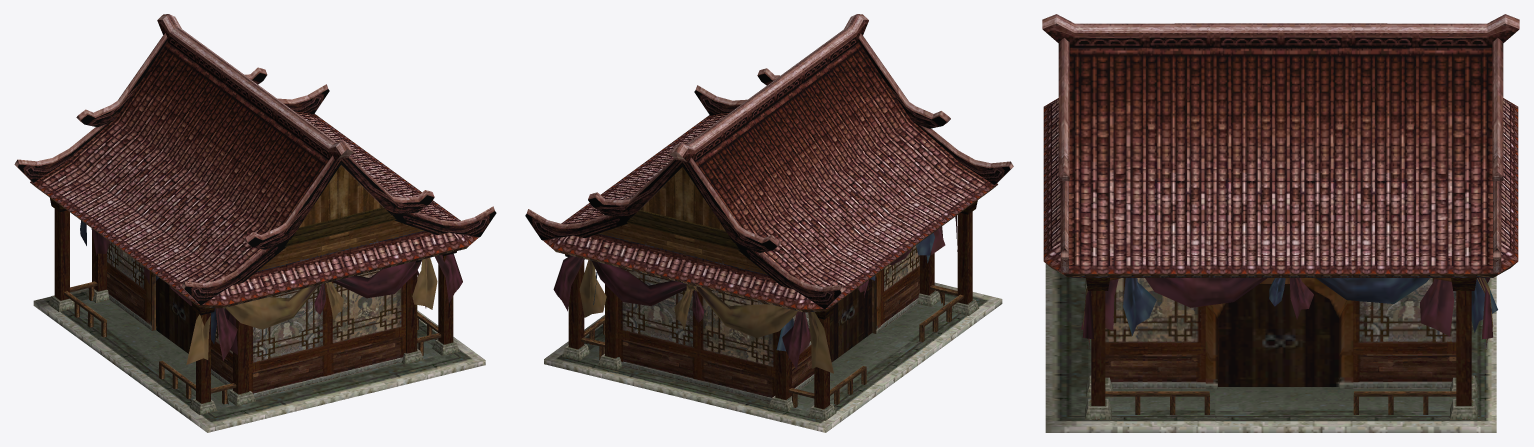
The model's file is a1-032-shamanhouse.glb.
3 renders of one model, left to right at view 1: azimuth 30°, elevation 25°; view 2: azimuth 150°, elevation 25°; view 3: azimuth 270°, elevation 25°, orthographic. The views are drawn at different scales.
Visible parts, largest first — view 1: 1; view 2: 1; view 3: 1.
Boxes of the visible parts, x1,y1,x2,y2 form: 1: [14, 14, 496, 432]; 1: [525, 14, 1013, 432]; 1: [1042, 14, 1519, 432].
Bounding box in the file's own units: 9.89 × 7.73 × 10.11.
Materials: 3 (3 with a texture image).
